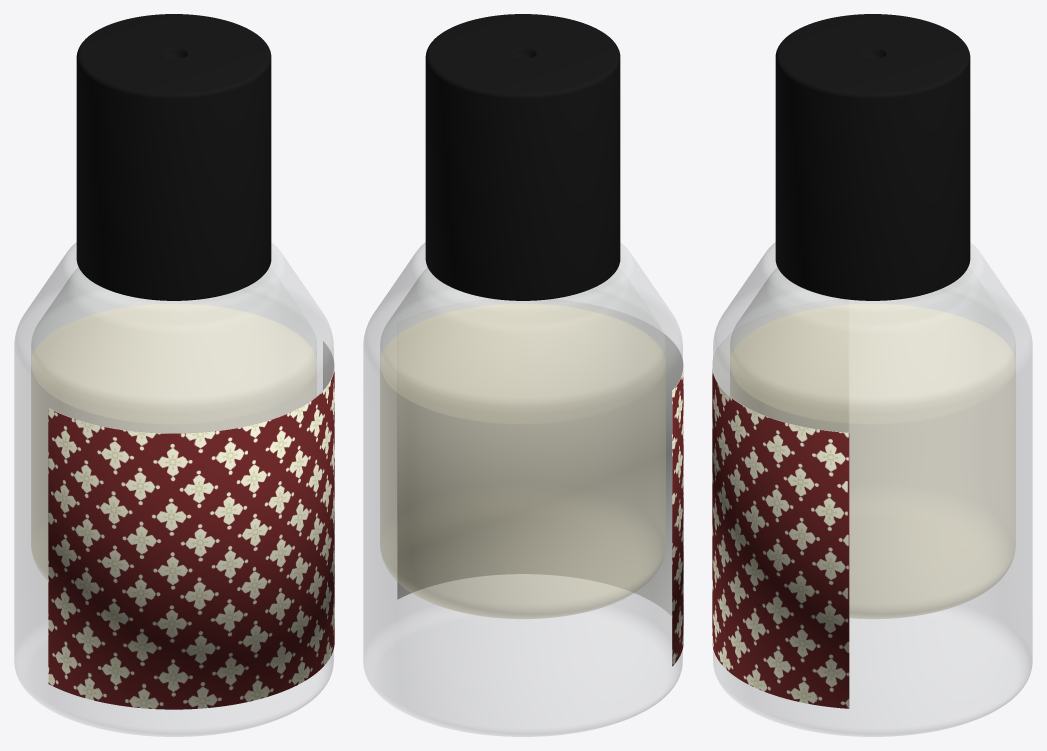
File: senja.glb
3 views of the same model, side by side, from view 1: azimuth 30°, elevation 25°; view 2: azimuth 150°, elevation 25°; view 3: azimuth 270°, elevation 25° (orthographic).
Visible parts, largest first — view 1: Bottle_Label, Bottle_Glass, Cap_Main, Perfume_Liquid; view 2: Bottle_Glass, Perfume_Liquid, Bottle_Label, Cap_Main; view 3: Bottle_Glass, Perfume_Liquid, Cap_Main, Bottle_Label.
Boxes of the visible parts, box(x1,y1,x2,y2) form: Bottle_Label: box(48, 341, 334, 709); Bottle_Glass: box(14, 242, 333, 736); Cap_Main: box(76, 14, 271, 300); Perfume_Liquid: box(31, 304, 316, 579); Bottle_Glass: box(363, 242, 682, 736); Perfume_Liquid: box(380, 304, 665, 618); Bottle_Label: box(397, 299, 683, 666); Cap_Main: box(425, 14, 620, 300); Bottle_Glass: box(713, 242, 1032, 736); Perfume_Liquid: box(730, 304, 1015, 618); Cap_Main: box(775, 14, 970, 300); Bottle_Label: box(712, 299, 849, 708).
Bounding box in the file's own units: 0.042 × 0.09 × 0.0421.
6 materials, 1 textured.
